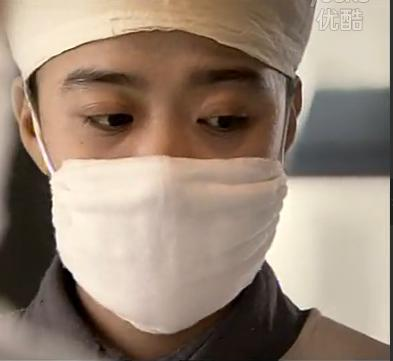OK: (45, 62, 292, 338)
